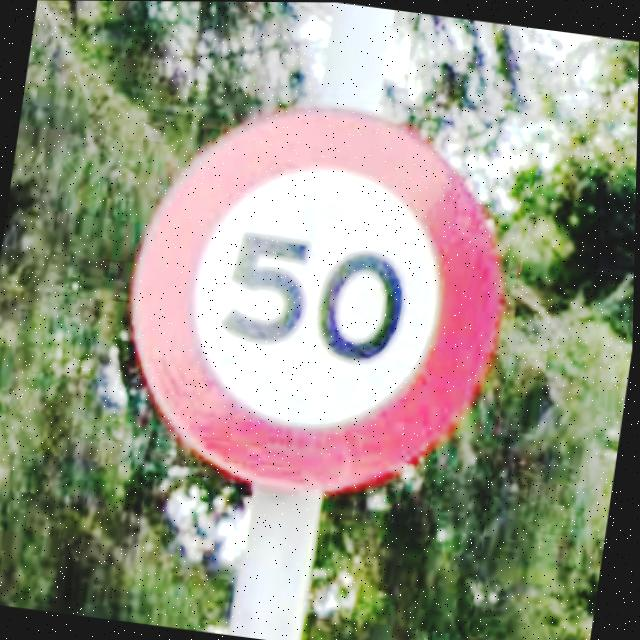max50: (104, 78, 532, 516)
